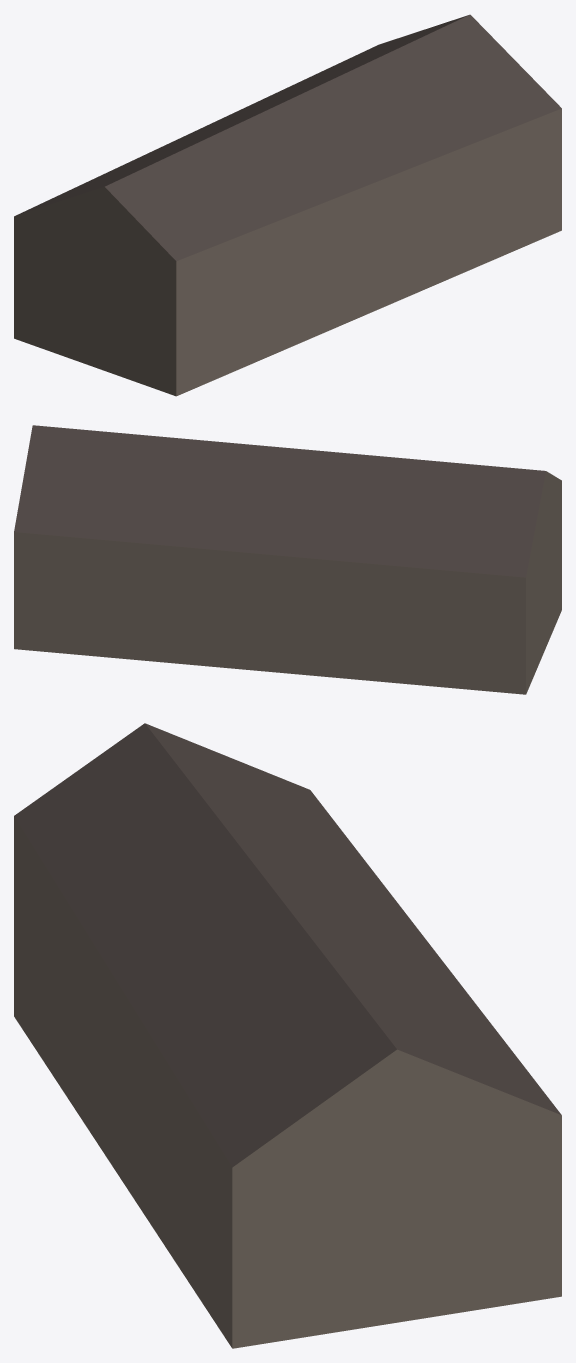
The picture shows the model from 3 angles, top to bottom: view 1: azimuth 30°, elevation 25°; view 2: azimuth 150°, elevation 25°; view 3: azimuth 270°, elevation 25°; orthographic projection. The views are drawn at different scales.
Visible parts, largest first — view 1: HP-w505649218; view 2: HP-w505649218; view 3: HP-w505649218.
Boxes of the visible parts, left/top/right/bottom form: HP-w505649218: left=14, top=14, right=561, bottom=396; HP-w505649218: left=14, top=425, right=561, bottom=694; HP-w505649218: left=14, top=723, right=561, bottom=1348.
Bounding box in the file's own units: 26.81 × 9.05 × 16.44.
